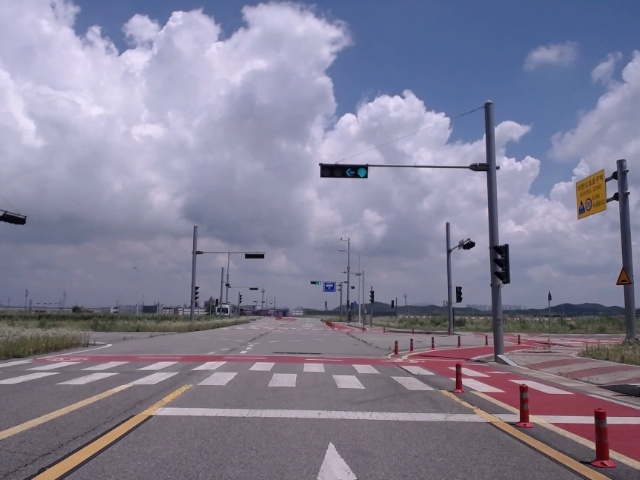all_green_4: (318, 164, 372, 180)
